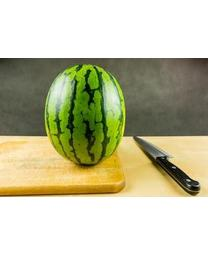watermelon: (44, 65, 126, 169)
